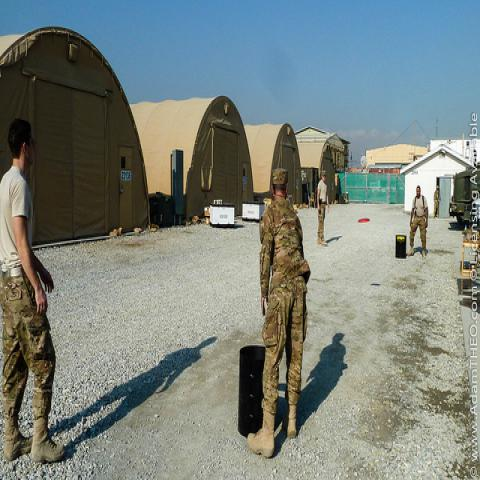truck: (448, 168, 480, 225)
